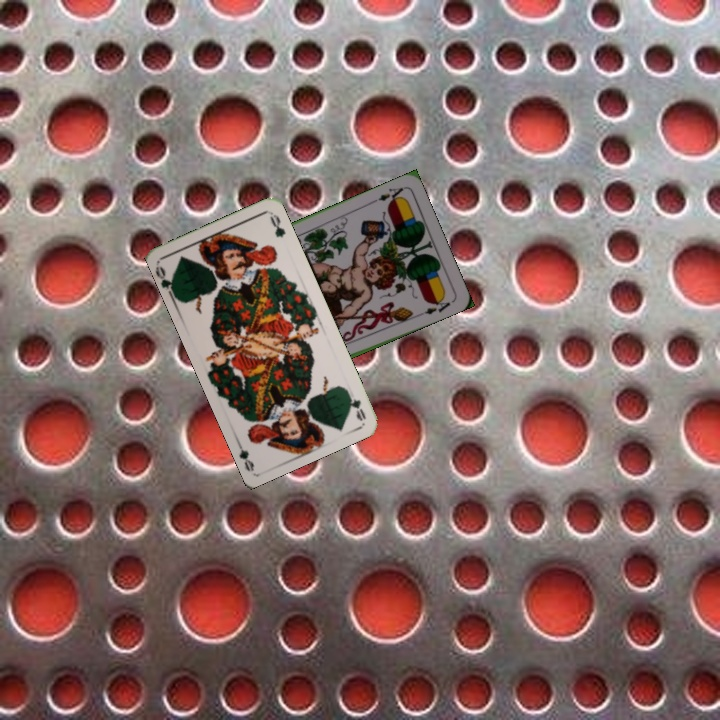EA: (368, 183, 406, 206)
GO: (341, 385, 368, 423), (152, 262, 178, 301)
